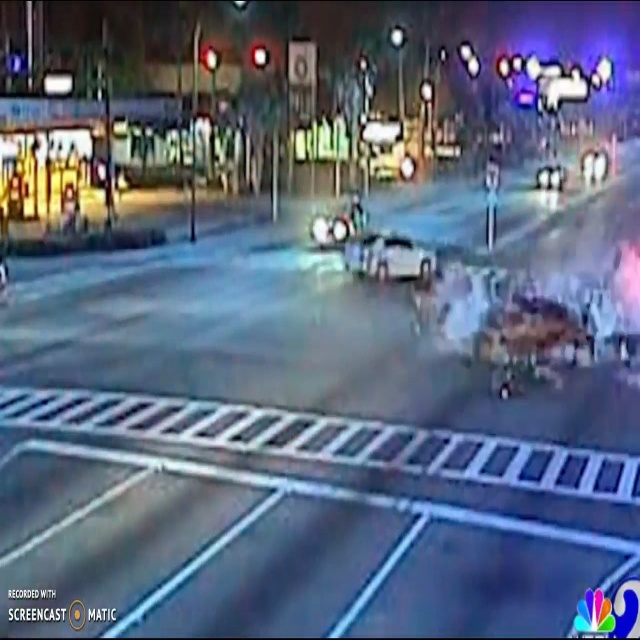acc: (444, 239, 640, 393)
